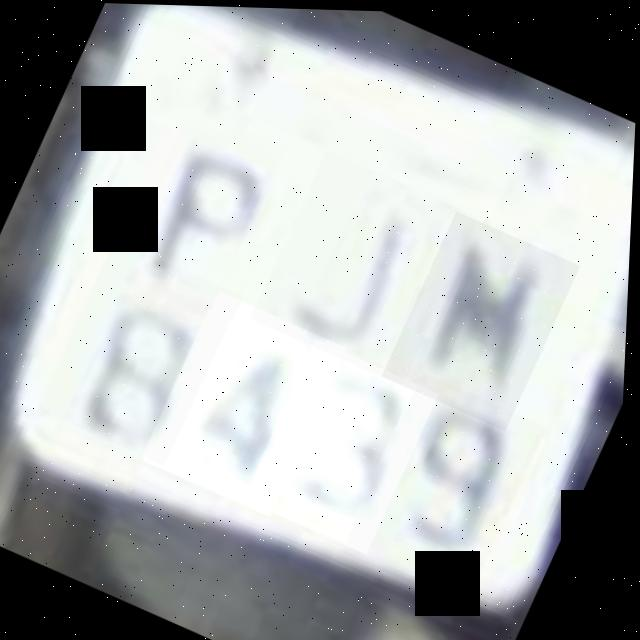3: (245, 335, 444, 553)
4: (144, 288, 351, 516)
9: (345, 368, 552, 605)
B: (39, 237, 246, 465)
J: (250, 146, 483, 384)
M: (382, 207, 583, 429)
P: (113, 93, 319, 322)
